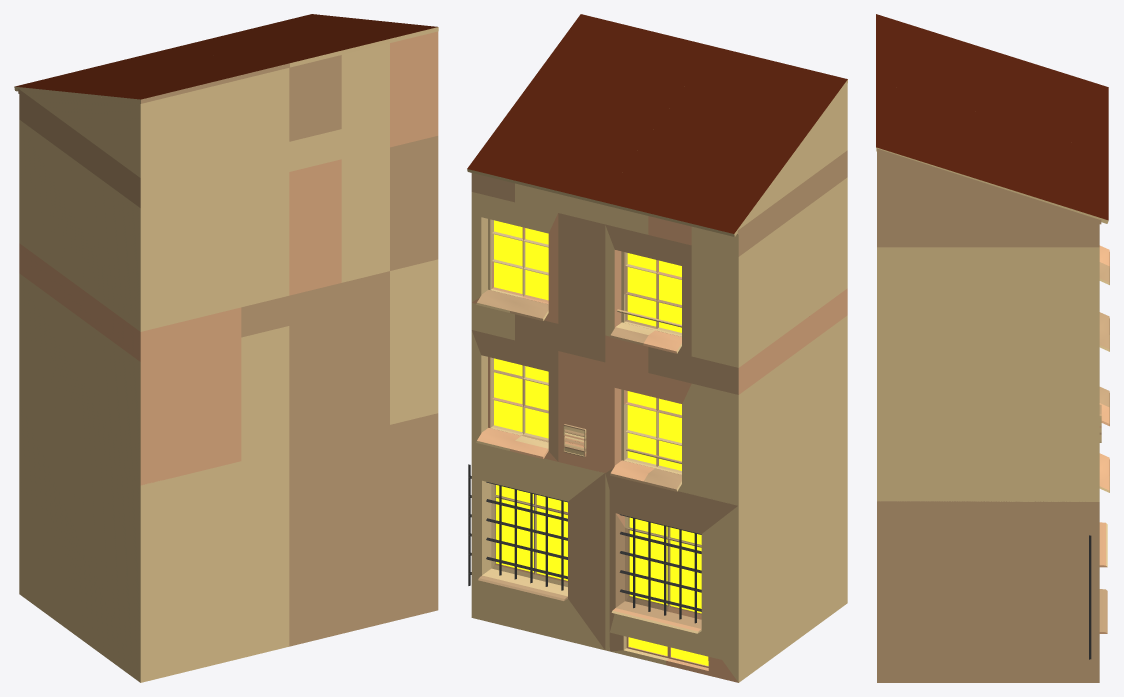
The model's file is house2 1.fbx.
3 renders of one model, left to right at view 1: azimuth 30°, elevation 25°; view 2: azimuth 150°, elevation 25°; view 3: azimuth 270°, elevation 25°, orthographic. The views are drawn at different scales.
Parts seen in each view (by area): view 1: pasted__polySurface6, polySurface8, polySurface7, pasted__polySurface4, polySurface5, polySurface6, pCube10, pCube8; view 2: polySurface8, pasted__polySurface6, polySurface7, pCube10, pCube8, polySurface5, polySurface6, pasted__polySurface4, Grid_pPrism4, Grid_pPrism5, pCube6; view 3: polySurface5, pasted__polySurface4, polySurface6, pCube8, pCube10, polySurface8, pasted__polySurface6, Grid_pPrism4.
Part boxes in pixels (box(x1,y1,x2,y2)): pasted__polySurface6: box(18, 68, 289, 331); polySurface8: box(19, 397, 289, 682); polySurface7: box(19, 243, 289, 485); pasted__polySurface4: box(289, 31, 438, 295); polySurface5: box(289, 413, 438, 646); polySurface6: box(289, 259, 438, 449); pCube10: box(14, 50, 289, 103); pCube8: box(164, 14, 438, 67); polySurface8: box(605, 426, 847, 682); pasted__polySurface6: box(605, 81, 847, 367); polySurface7: box(605, 288, 847, 505); pCube10: box(600, 46, 847, 236); pCube8: box(467, 14, 713, 204); polySurface5: box(471, 441, 605, 650); polySurface6: box(471, 303, 605, 472); pasted__polySurface4: box(471, 173, 605, 335); Grid_pPrism4: box(468, 464, 567, 590); Grid_pPrism5: box(619, 514, 701, 623); pCube6: box(563, 424, 586, 457); polySurface5: box(877, 501, 1107, 682); pasted__polySurface4: box(877, 148, 1109, 360); polySurface6: box(877, 361, 1109, 501); pCube8: box(876, 80, 1108, 223); pCube10: box(876, 14, 1108, 153); polySurface8: box(1099, 522, 1107, 567); pasted__polySurface6: box(1099, 245, 1109, 284); Grid_pPrism4: box(1089, 535, 1091, 659).
Bounding box in the file's own units: 8.1 × 14.71 × 5.81.
